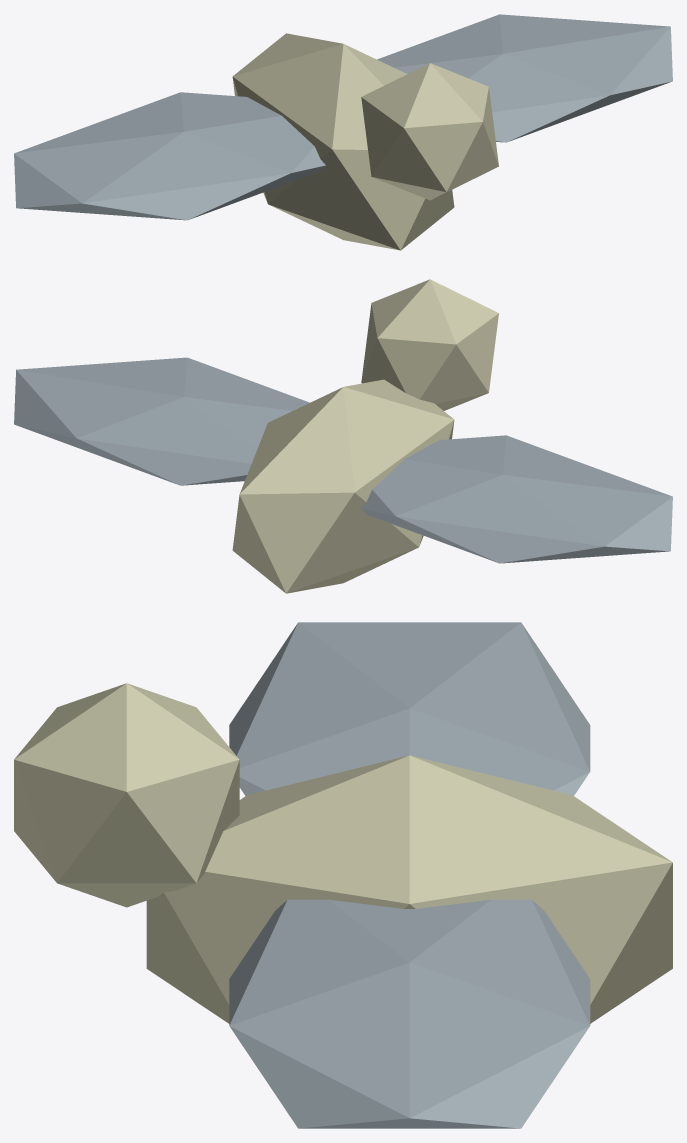
File: SH10_Peachone.fbx
3 views of the same model, one above another, from view 1: azimuth 30°, elevation 25°; view 2: azimuth 150°, elevation 25°; view 3: azimuth 270°, elevation 25° (orthographic). The views are drawn at different scales.
Parts seen in each view (by area): view 1: SH10_Peachone; view 2: SH10_Peachone; view 3: SH10_Peachone.
Boxes of the visible parts, x1,y1,x2,y2 form: SH10_Peachone: (14, 14, 672, 250); SH10_Peachone: (14, 279, 672, 593); SH10_Peachone: (14, 622, 672, 1128).
Size of the model in its own units: 140 by 49 by 74.53.
